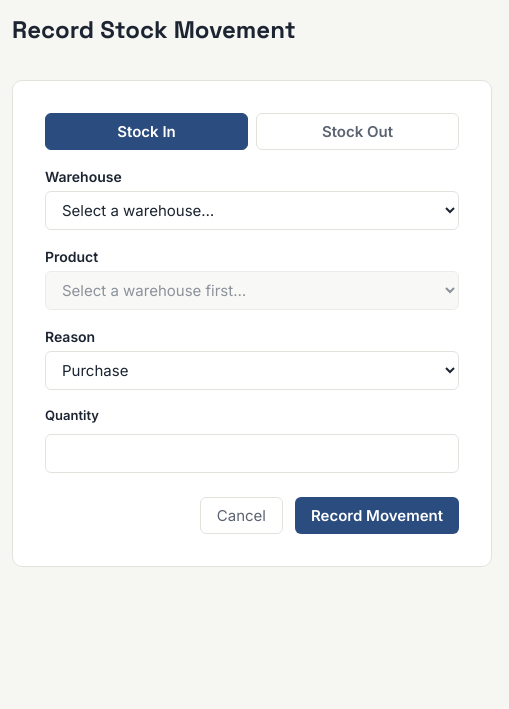
it: TransactionForm › as Admin › requires a warehouse to be selected before submitting
The image size is (509, 709).
Expected: the heading "Record Stock Movement" is shown, [12,14,296,45]
Click the button "Record Movement" at (377,515), box [295,496,459,534]
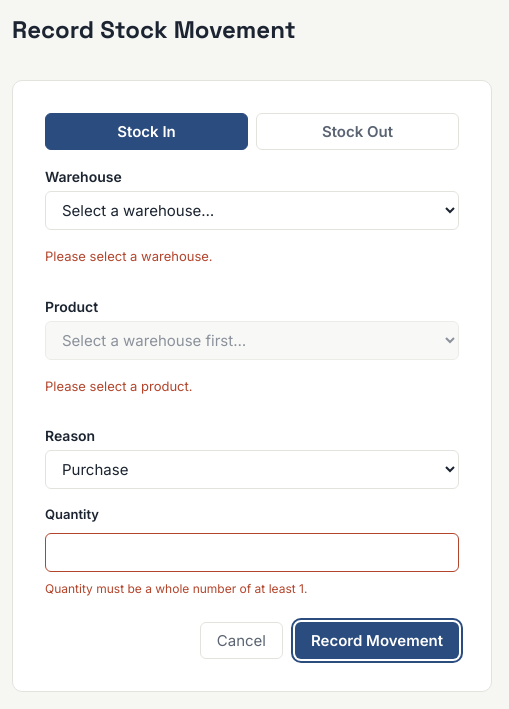
Expected: the text "Please select a warehouse." is shown, [45,248,213,264]
